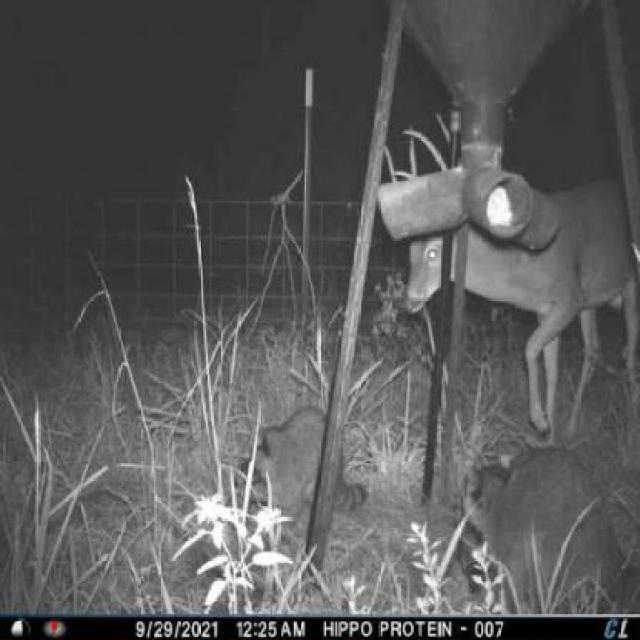Deer: (370, 111, 639, 449)
